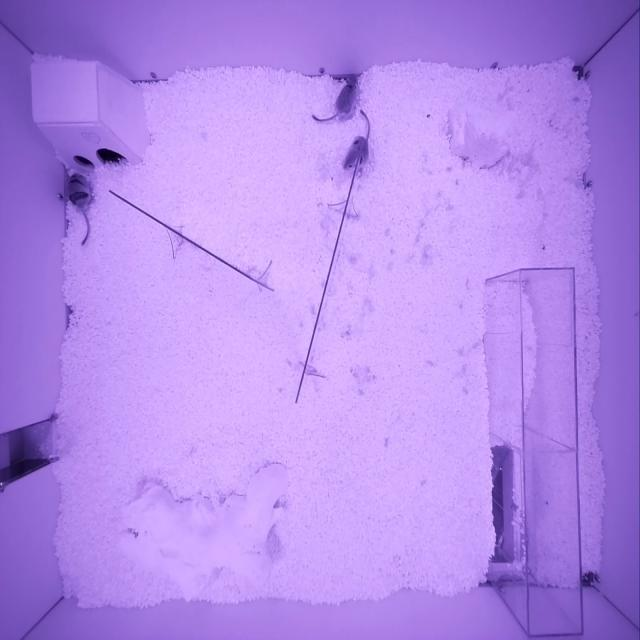pup_fluffy: (335, 76, 358, 116)
pup_h_stripe: (65, 172, 91, 207)
pup_spotted: (343, 136, 369, 171)
